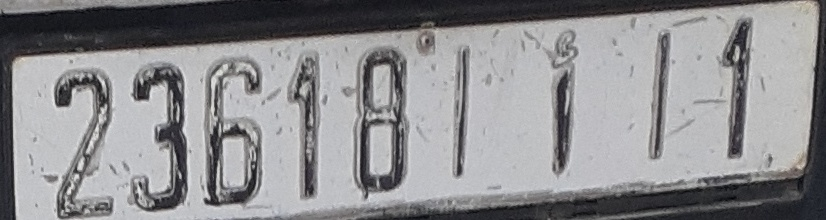1: (284, 47, 328, 205), (713, 14, 757, 165)
2: (49, 67, 120, 219)
3: (127, 59, 192, 210)
6: (202, 50, 268, 212)
8: (350, 43, 415, 197)
a: (545, 23, 584, 182)
